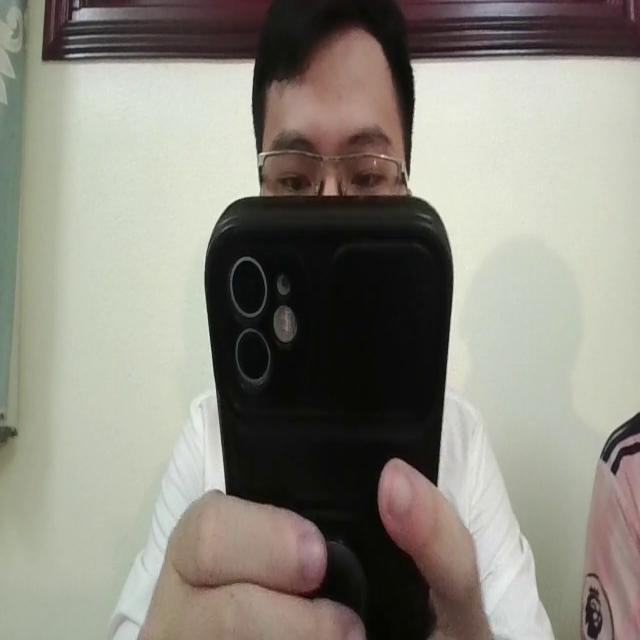phone: (203, 188, 453, 640)
student: (246, 0, 417, 204)
